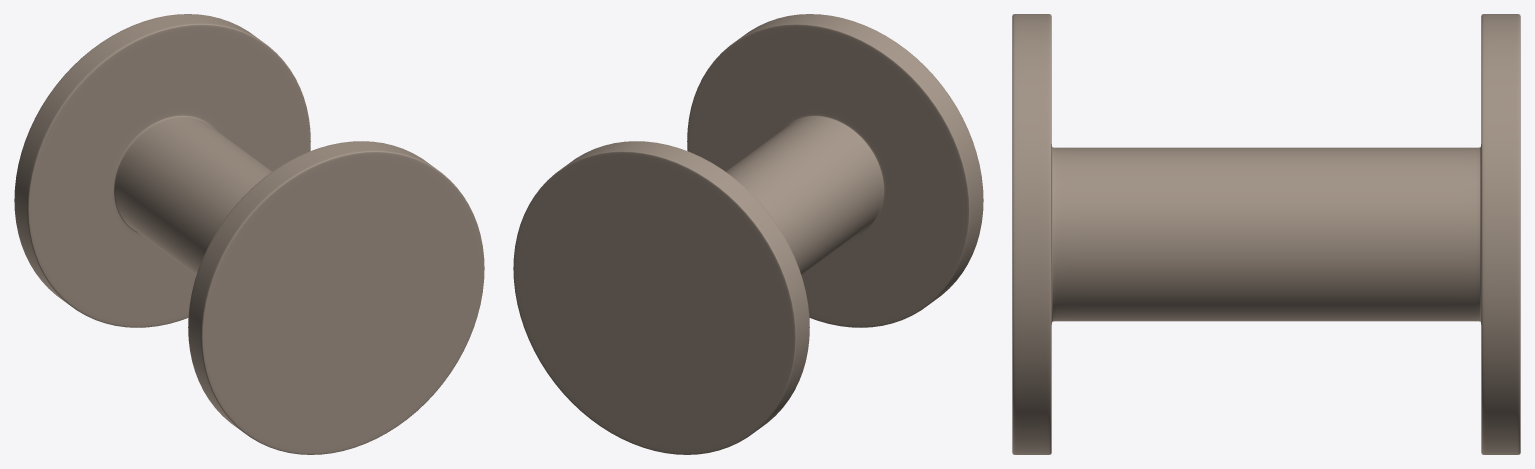
Rendered from spool_empty.fbx.
3 renders of one model, left to right at view 1: azimuth 30°, elevation 25°; view 2: azimuth 150°, elevation 25°; view 3: azimuth 270°, elevation 25°, orthographic. The views are drawn at different scales.
Visible parts, largest first — view 1: spool_empty; view 2: spool_empty; view 3: spool_empty.
Boxes of the visible parts, x1,y1,x2,y2 form: spool_empty: (14,14,484,454); spool_empty: (513,14,983,454); spool_empty: (1012,14,1520,454).
Size of the model in its own units: 48.83 by 48.83 by 56.26.
